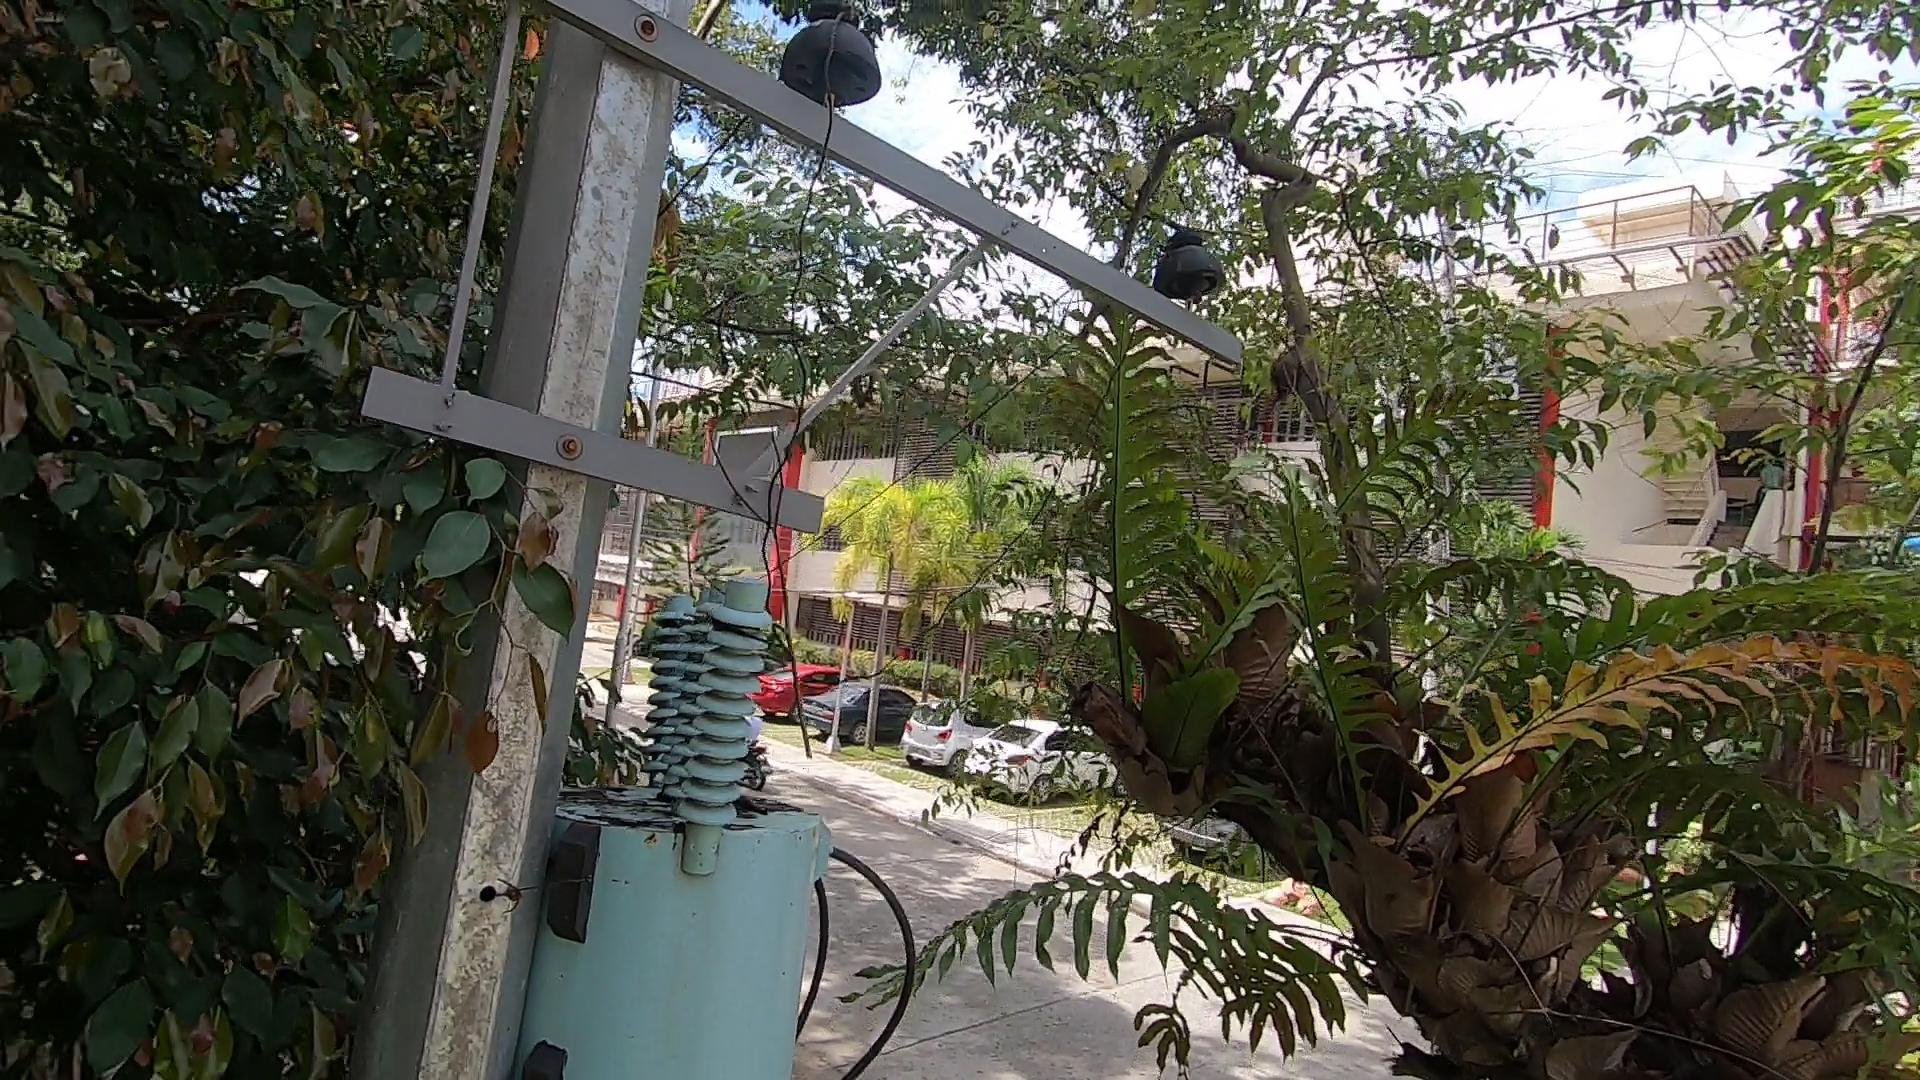leaf: (744, 789, 783, 825)
tree branch: (702, 359, 852, 753)
